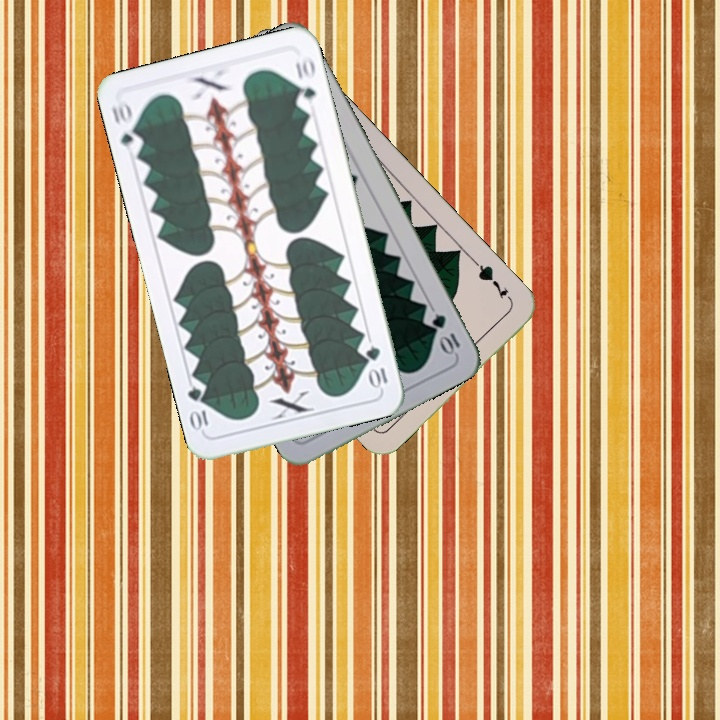G10: (108, 98, 145, 154), (428, 310, 463, 357), (362, 342, 390, 391)
G7: (471, 258, 515, 306)
